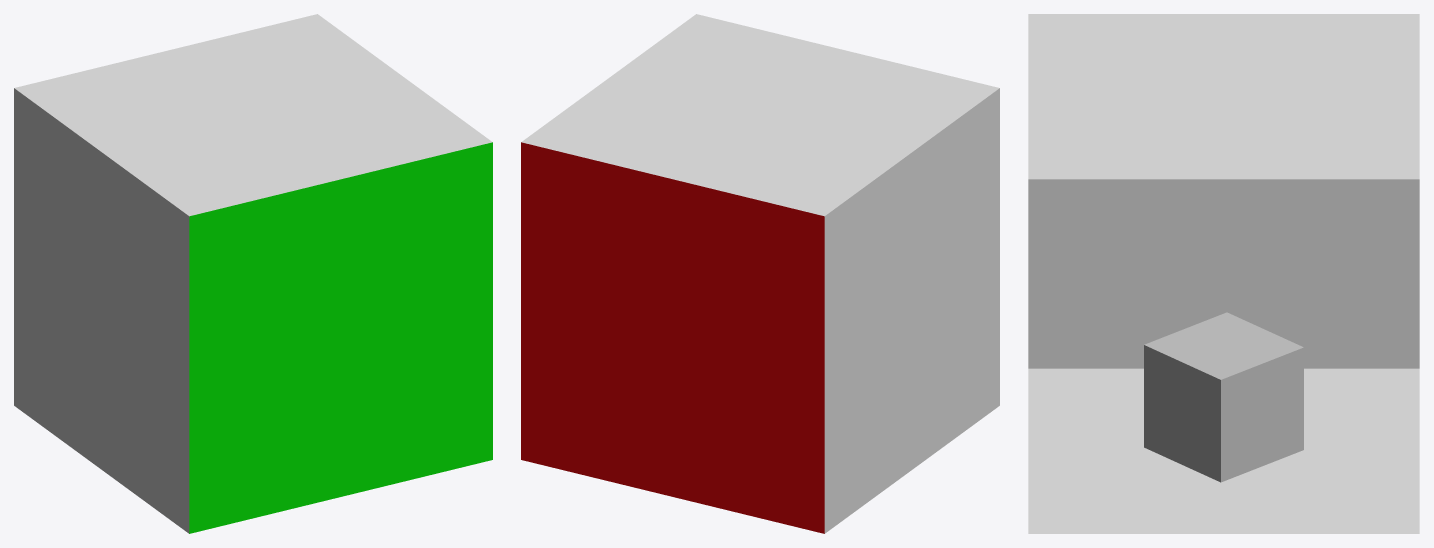
File: cornelbox_texture_test.gltf
3 views of the same model, side by side, from view 1: azimuth 30°, elevation 25°; view 2: azimuth 150°, elevation 25°; view 3: azimuth 270°, elevation 25° (orthographic). The views are drawn at different scales.
Parts seen in each view (by area): view 1: Cube; view 2: Cube; view 3: Cube, Cube.006.
Part boxes in pixels (bbox=[...]): Cube: bbox=[14, 14, 492, 533]; Cube: bbox=[521, 14, 999, 533]; Cube: bbox=[1028, 14, 1419, 533]; Cube.006: bbox=[1144, 312, 1303, 482].
Bounding box in the file's own units: 2 × 2 × 2.
